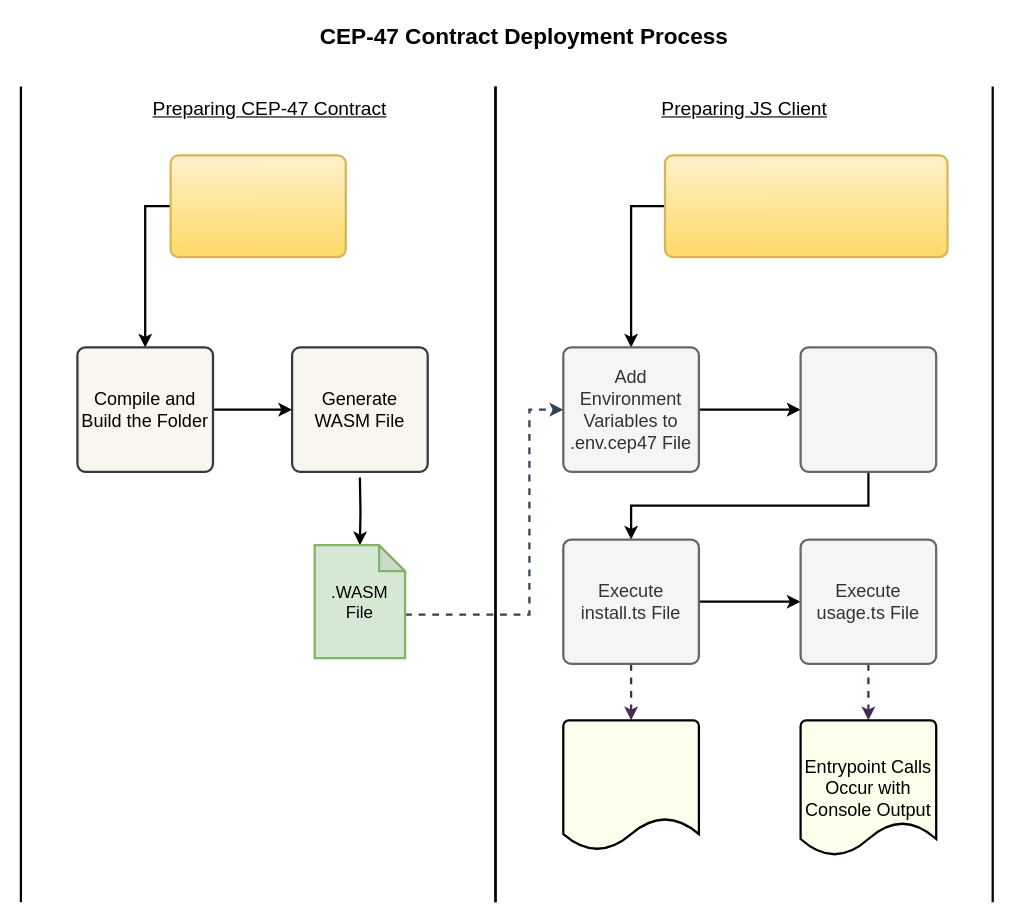
This 1012x921 diagram has some shape labels left out. Each missing label, with the centre of its shape:
"Clone ' casper-contracts-js-clients' Repository" goes at pixel 805 206.
"Clone ' casper-nft-cep47' Repository" goes at pixel 257 206.
"Deployment Occurs with Console Output" goes at pixel 630 785.
"Run NPM Package Manager" goes at pixel 868 409.
